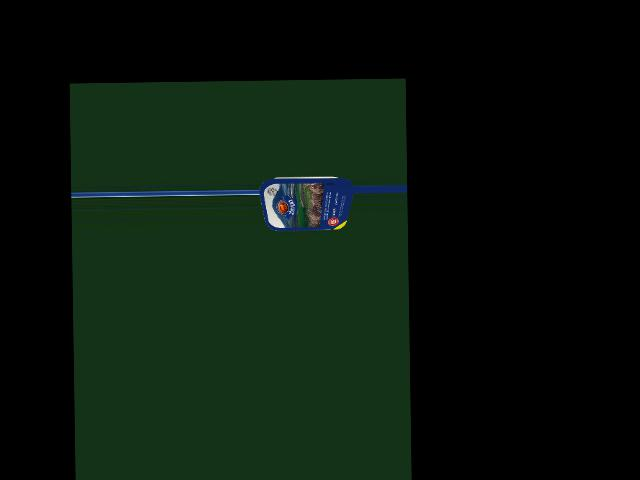cheese: (266, 169, 344, 233)
